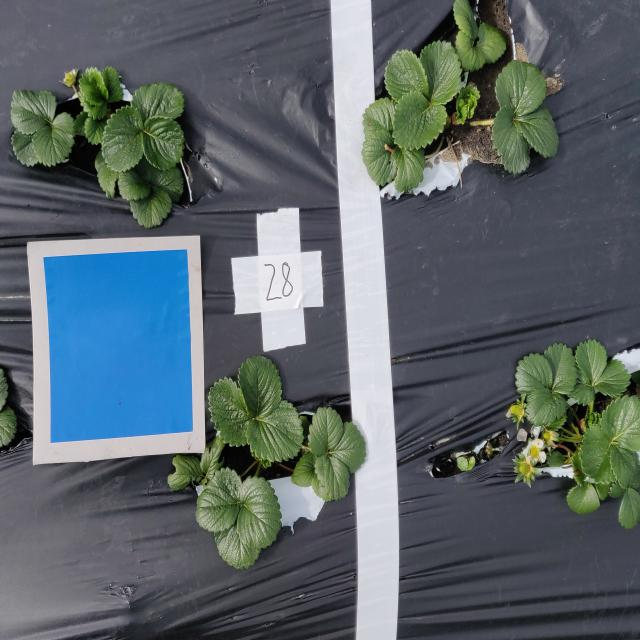ripe: (510, 402, 524, 419), (518, 460, 532, 477), (542, 429, 552, 444)
